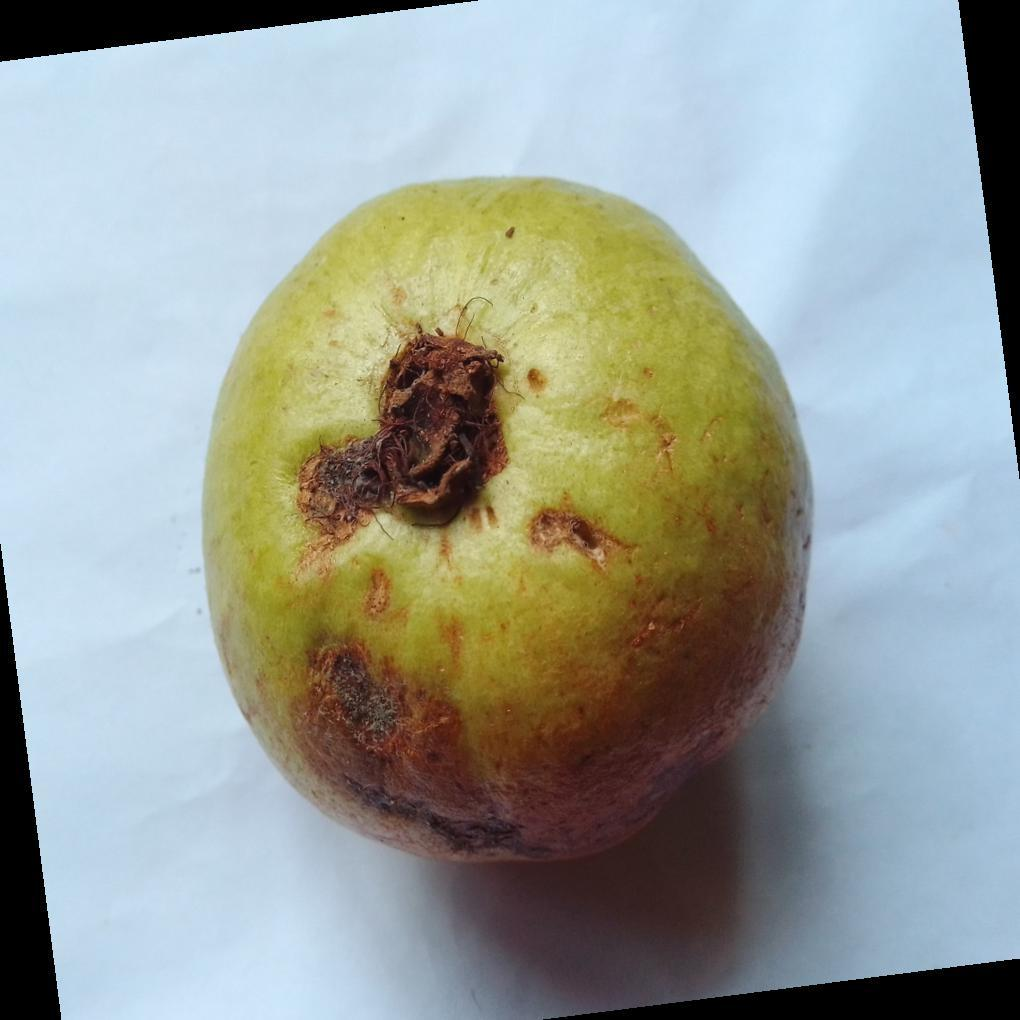FreshOrange: (197, 176, 815, 872)
